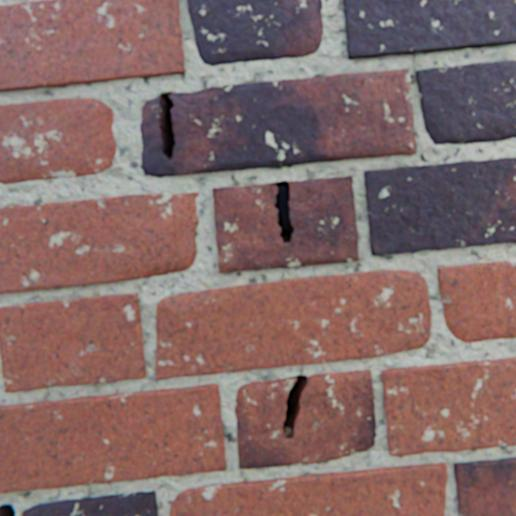brick: (156, 270, 430, 378), (141, 69, 415, 176), (0, 383, 226, 492), (0, 192, 199, 293), (0, 0, 185, 92), (170, 461, 446, 515), (363, 158, 515, 255), (0, 292, 146, 391), (213, 176, 358, 272), (235, 369, 375, 467), (381, 356, 515, 454), (343, 0, 515, 59), (0, 99, 117, 184), (187, 0, 322, 66), (415, 61, 515, 144), (436, 259, 515, 341), (453, 456, 515, 515), (23, 490, 158, 515)
crack: (282, 374, 307, 434), (274, 180, 293, 242), (160, 91, 176, 159), (0, 503, 16, 515)
